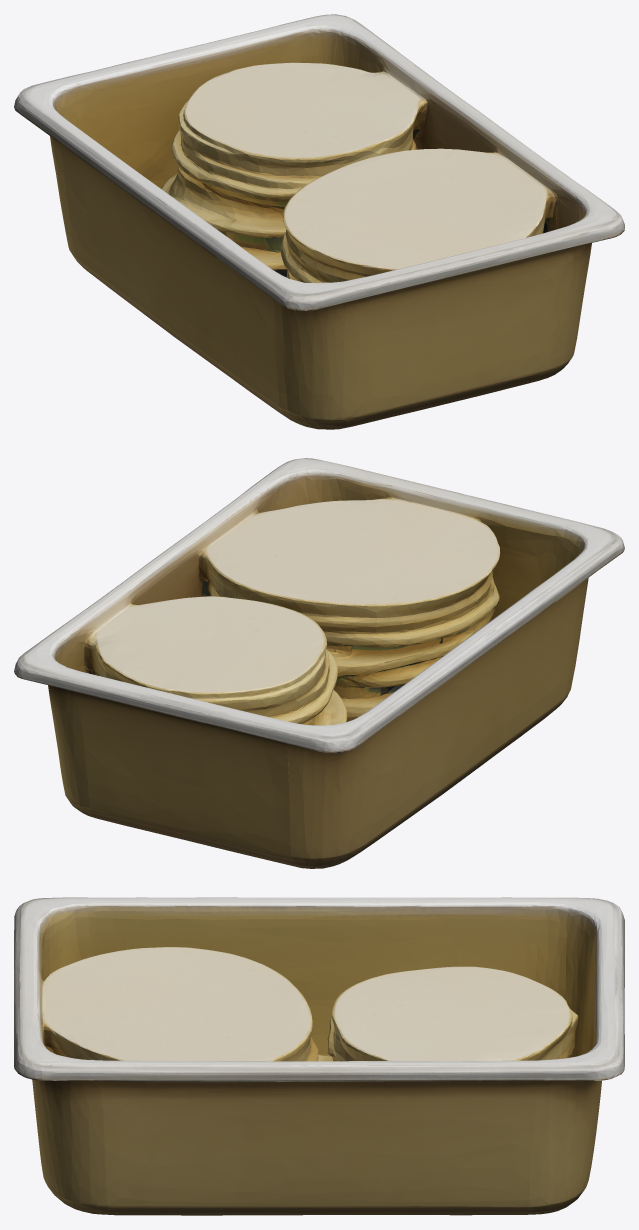
File: cha_lua.glb
3 views of the same model, one above another, from view 1: azimuth 30°, elevation 25°; view 2: azimuth 150°, elevation 25°; view 3: azimuth 270°, elevation 25° (orthographic). The views are drawn at different scales.
Parts seen in each view (by area): view 1: world; view 2: world; view 3: world.
Boxes of the visible parts, x1,y1,x2,y2 form: world: [14, 14, 624, 429]; world: [14, 458, 624, 868]; world: [14, 897, 624, 1215].
Size of the model in its own units: 0.6721 by 0.3057 by 0.9992.
1 material, 1 textured.
